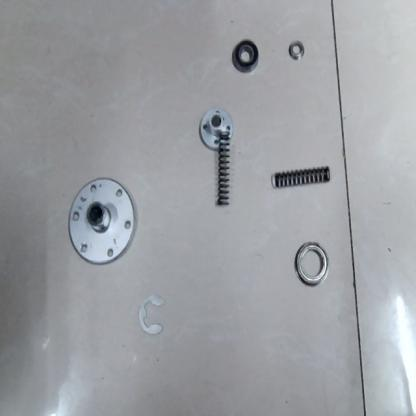FOD: (67, 175, 136, 265), (270, 161, 333, 193), (198, 102, 234, 152), (293, 240, 331, 287), (216, 128, 233, 208), (137, 293, 167, 337), (230, 36, 260, 76), (285, 36, 307, 64)
